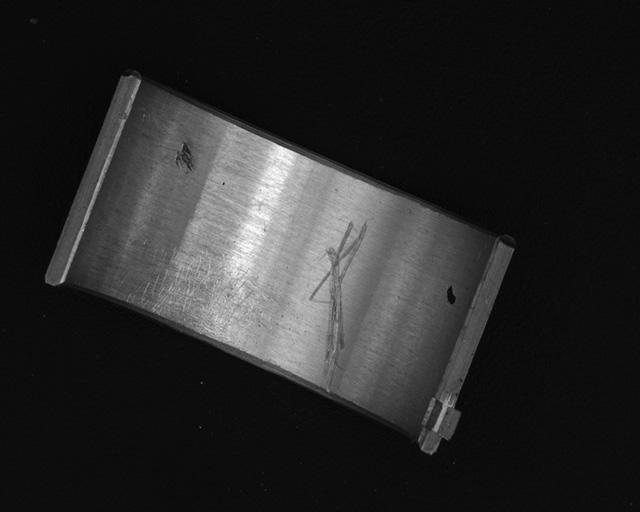blot: (446, 283, 457, 305)
bruise: (173, 140, 196, 173)
nick: (310, 220, 369, 395)
scratch: (123, 241, 269, 347)
